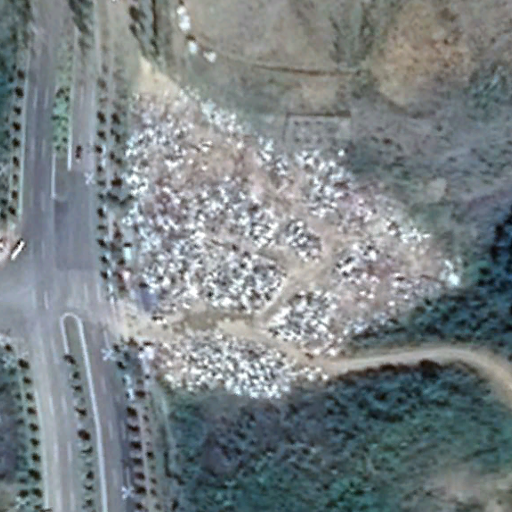msw: (125, 91, 455, 398)
